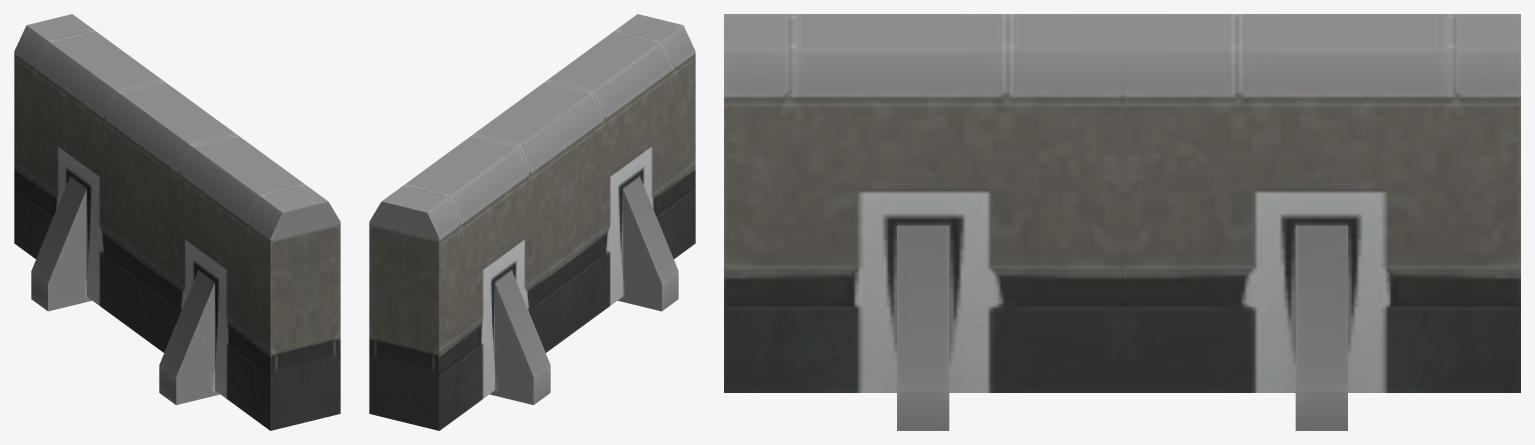
Rendered from Part - Fence 06-Dxx2VvjV.glb.
The picture shows the model from 3 angles, left to right: view 1: azimuth 30°, elevation 25°; view 2: azimuth 150°, elevation 25°; view 3: azimuth 270°, elevation 25°; orthographic projection. The views are drawn at different scales.
Parts seen in each view (by area): view 1: Fence_06; view 2: Fence_06; view 3: Fence_06.
Part boxes in pixels (x1,y1,x2,y2): Fence_06: (14,14,340,430); Fence_06: (369,14,695,430); Fence_06: (724,14,1520,430).
Size of the model in its own units: 0.5468 by 0.7823 by 1.64.
1 material, 1 textured.
